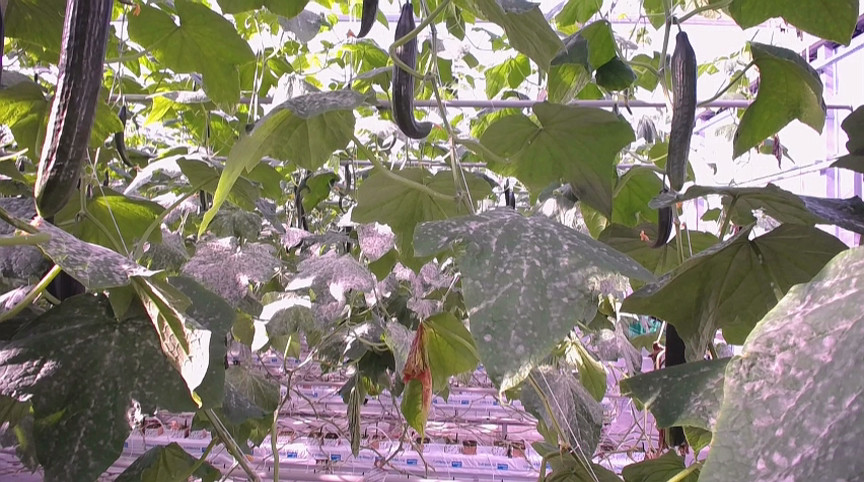cucumber: (36, 1, 114, 220), (394, 5, 433, 140), (666, 32, 696, 190), (359, 1, 379, 37)
